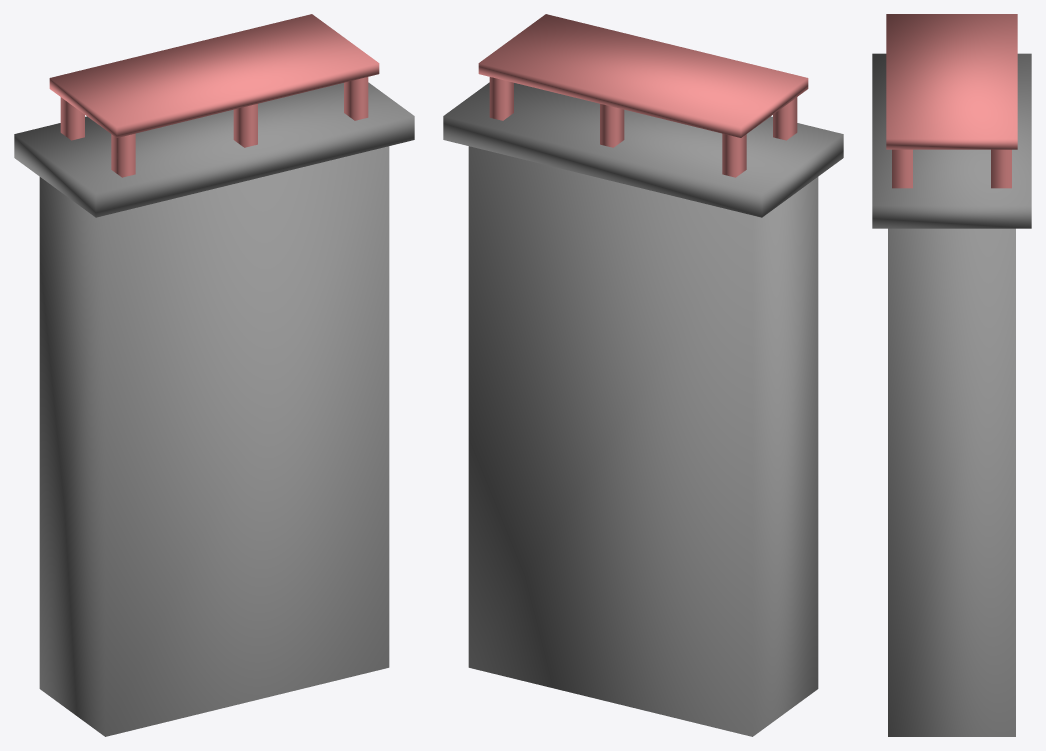
The model's file is SM_chimney_01.gltf.
The picture shows the model from 3 angles, left to right: view 1: azimuth 30°, elevation 25°; view 2: azimuth 150°, elevation 25°; view 3: azimuth 270°, elevation 25°; orthographic projection. The views are drawn at different scales.
Visible parts, largest first — view 1: SM_chimney_01; view 2: SM_chimney_01; view 3: SM_chimney_01.
Boxes of the visible parts, left/top/right/bottom form: SM_chimney_01: left=14, top=14, right=414, bottom=736; SM_chimney_01: left=443, top=14, right=843, bottom=736; SM_chimney_01: left=872, top=14, right=1031, bottom=736.
Size of the model in its own units: 2.25 by 4.09 by 0.9962.
